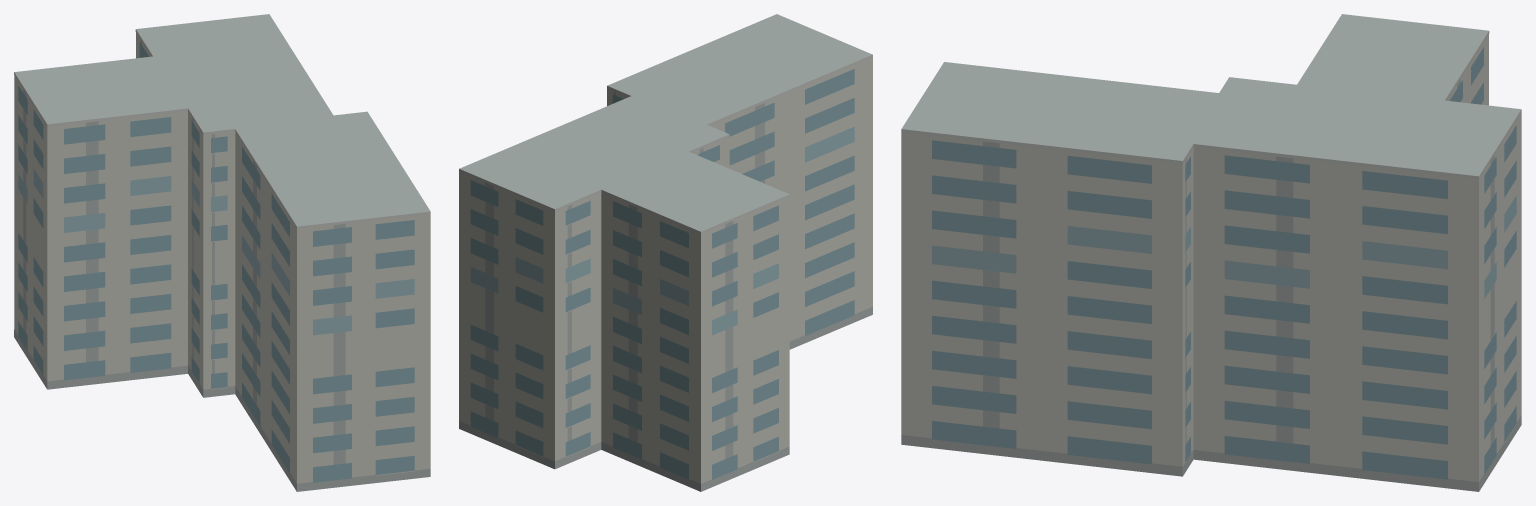
The model's file is residential-89629fb2-f134-48b4-a051-e6ee5e77d8d8.glb.
The picture shows the model from 3 angles, left to right: view 1: azimuth 30°, elevation 25°; view 2: azimuth 150°, elevation 25°; view 3: azimuth 270°, elevation 25°; orthographic projection. The views are drawn at different scales.
Visible parts, largest first — view 1: residential-89629fb2-f134-48b4-a051-e6ee5e77d8d8.tmp; view 2: residential-89629fb2-f134-48b4-a051-e6ee5e77d8d8.tmp; view 3: residential-89629fb2-f134-48b4-a051-e6ee5e77d8d8.tmp.
Boxes of the visible parts, <box> form: residential-89629fb2-f134-48b4-a051-e6ee5e77d8d8.tmp: <box>14,14,430,491</box>; residential-89629fb2-f134-48b4-a051-e6ee5e77d8d8.tmp: <box>459,14,872,491</box>; residential-89629fb2-f134-48b4-a051-e6ee5e77d8d8.tmp: <box>901,14,1521,491</box>.
Bounding box in the file's own units: 26.48 × 24 × 42.76.
